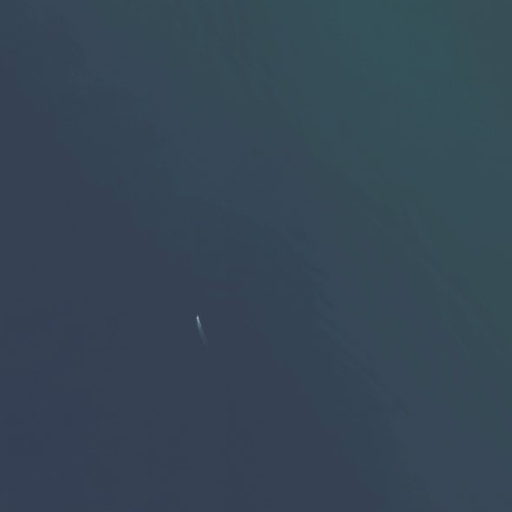ship: (193, 311, 202, 332)
